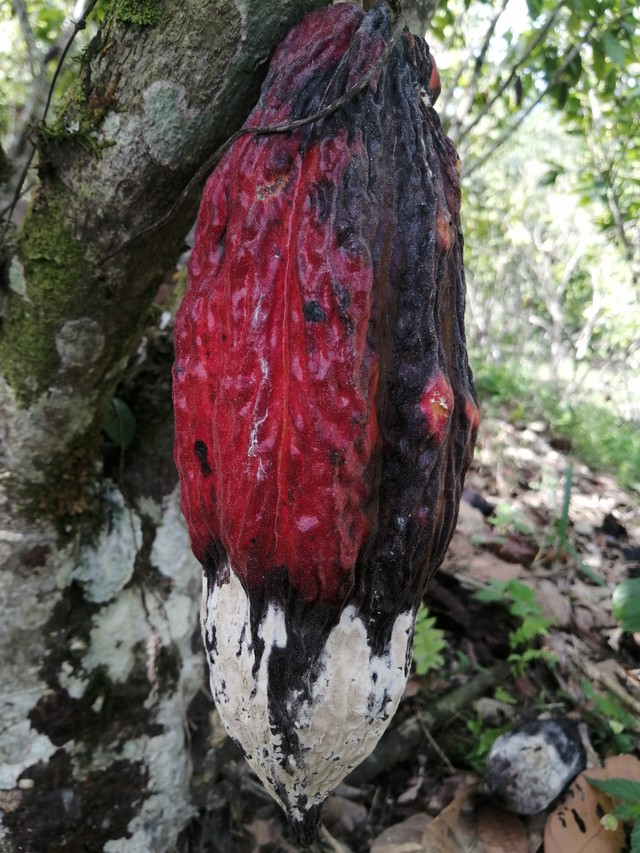moniliophthora roreri: (149, 1, 499, 850)
